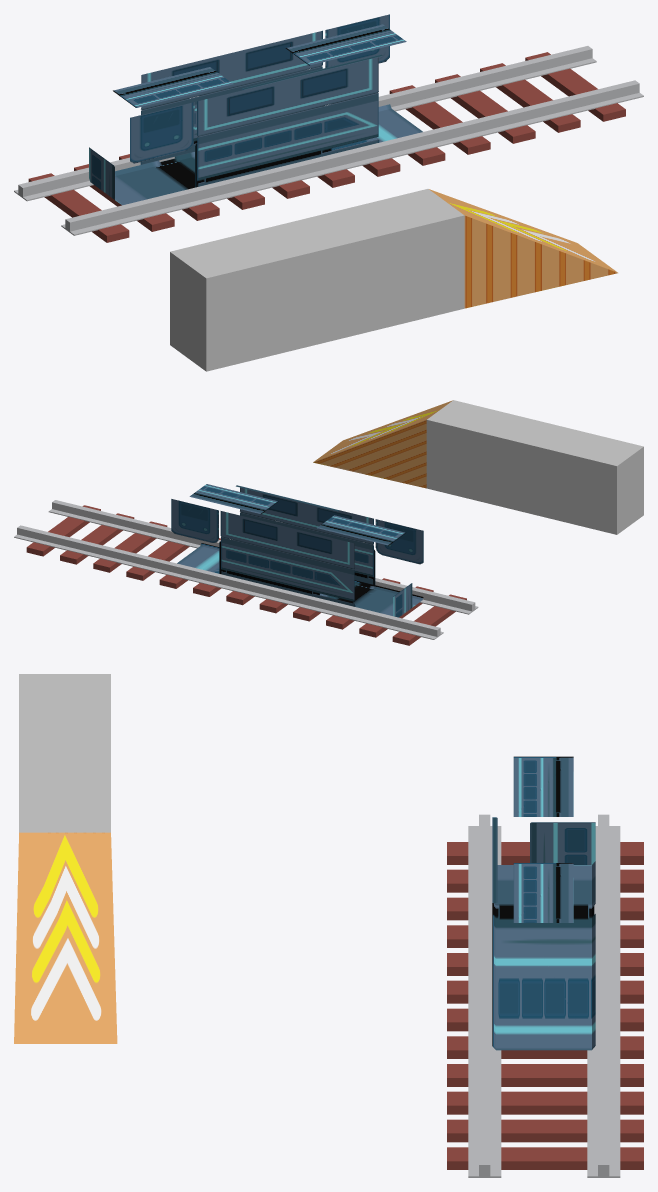
Rendered from train model.fbx.
The picture shows the model from 3 angles, top to bottom: view 1: azimuth 30°, elevation 25°; view 2: azimuth 150°, elevation 25°; view 3: azimuth 270°, elevation 25°; orthographic projection. The views are drawn at different scales.
Parts seen in each view (by area): view 1: Cube.005, train 1, Cube.004, Cube.006, Cube.003; view 2: Cube.005, train 1, Cube.004, Cube.006, Cube.003; view 3: train 1, Cube.006, Cube.003, Cube.004, Cube.005.
Part boxes in pixels (left/top/right/bottom): Cube.005: left=170, top=189, right=464, bottom=371; train 1: left=89, top=14, right=422, bottom=205; Cube.004: left=14, top=46, right=643, bottom=235; Cube.006: left=28, top=52, right=625, bottom=242; Cube.003: left=429, top=189, right=617, bottom=308; Cube.005: left=426, top=400, right=643, bottom=534; train 1: left=171, top=484, right=423, bottom=617; Cube.004: left=14, top=500, right=478, bottom=639; Cube.006: left=26, top=505, right=466, bottom=645; Cube.003: left=313, top=400, right=452, bottom=488; train 1: left=492, top=756, right=595, bottom=1050; Cube.006: left=447, top=842, right=643, bottom=1169; Cube.003: left=14, top=832, right=117, bottom=1043; Cube.004: left=468, top=814, right=620, bottom=1177; Cube.005: left=19, top=674, right=110, bottom=832.
Size of the model in its own units: 1092 by 184 by 767.
